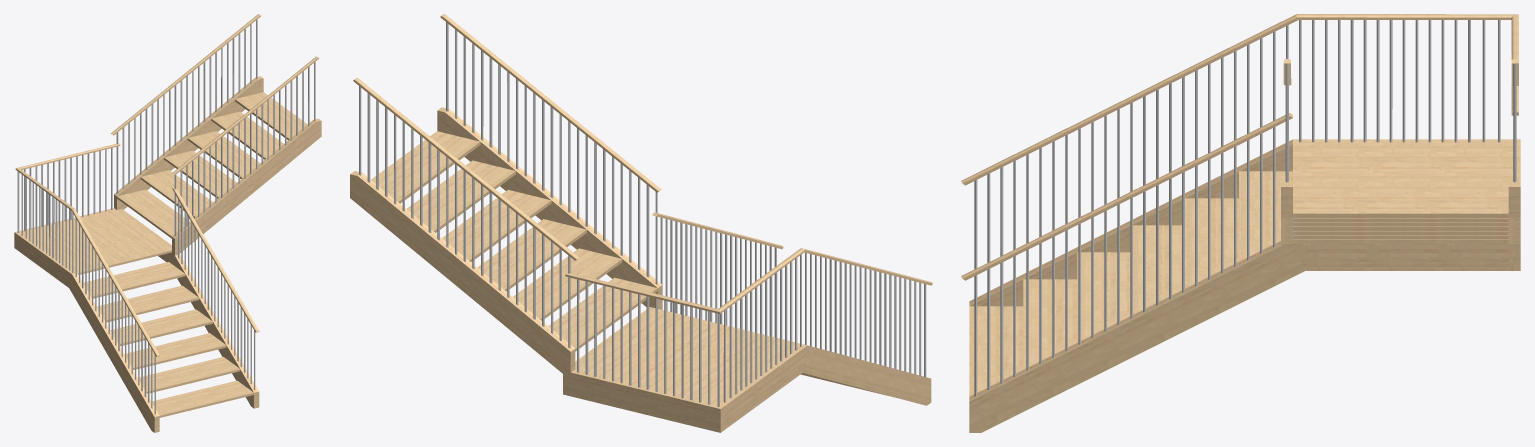
The model's file is sh-contrib-staircase-90-landing.glb.
3 renders of one model, left to right at view 1: azimuth 30°, elevation 25°; view 2: azimuth 150°, elevation 25°; view 3: azimuth 270°, elevation 25°, orthographic. The views are drawn at different scales.
Parts seen in each view (by area): view 1: 1_1.006, 26_26; view 2: 1_1.006, 26_26; view 3: 1_1.006, 26_26.
Part boxes in pixels (left/top/right/bottom): 1_1.006: left=14, top=14, right=321, bottom=432; 26_26: left=17, top=19, right=315, bottom=414; 1_1.006: left=350, top=14, right=932, bottom=432; 26_26: left=359, top=22, right=926, bottom=406; 1_1.006: left=961, top=14, right=1520, bottom=432; 26_26: left=974, top=20, right=1516, bottom=396.
Bounding box in the file's own units: 1 × 1 × 1.
Materials: 2 (1 with a texture image).
